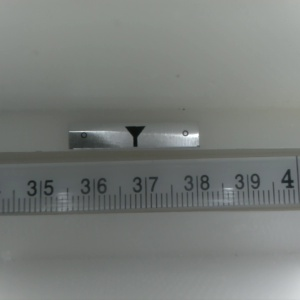3: (26, 180, 37, 197), (131, 176, 142, 192), (243, 174, 254, 189), (183, 175, 193, 191), (79, 178, 89, 194), (234, 174, 243, 189)
4: (281, 169, 295, 189)
5: (43, 180, 53, 196)
6: (96, 178, 107, 193)
7: (148, 176, 158, 192)
8: (199, 175, 209, 190)
finger: (123, 126, 145, 148)
